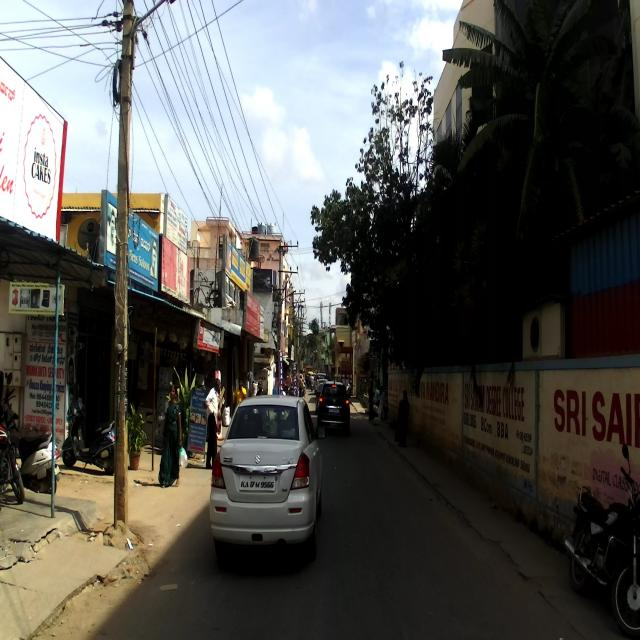car: (208, 394, 326, 570)
motorcycle: (562, 441, 640, 639)
scooter: (0, 368, 61, 496), (61, 394, 115, 476)
